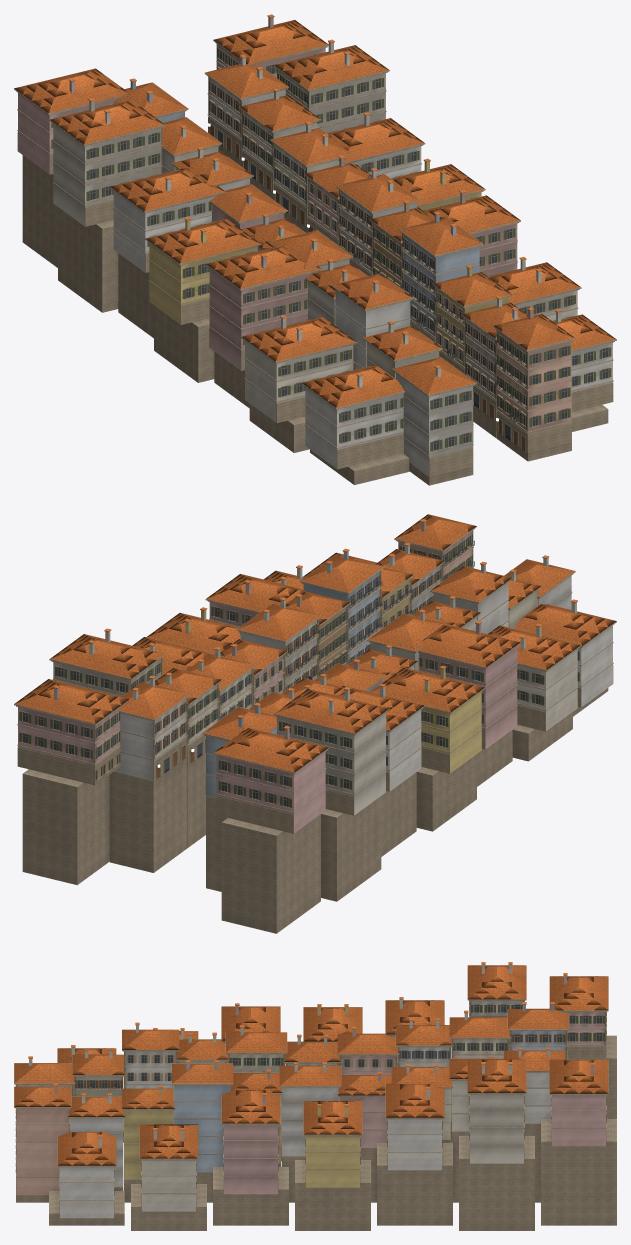
Rendered from tram.gltf.
3 views of the same model, one above another, from view 1: azimuth 30°, elevation 25°; view 2: azimuth 150°, elevation 25°; view 3: azimuth 270°, elevation 25° (orthographic). The views are drawn at different scales.
Visible parts, largest first — view 1: tram-roof-tiles, tram-plaster, tram-travertine-trim, tram-foundation, tram-shutters, tram-window-glass, tram-rustication, tram-wrought-iron, tram-door-wood; view 2: tram-roof-tiles, tram-foundation, tram-plaster, tram-travertine-trim, tram-shutters, tram-rustication, tram-window-glass, tram-wrought-iron; view 3: tram-roof-tiles, tram-plaster, tram-foundation, tram-travertine-trim, tram-shutters, tram-window-glass, tram-rustication.
Part boxes in pixels (left/top/right/bottom): tram-roof-tiles: left=14, top=14, right=616, bottom=407; tram-plaster: left=18, top=17, right=612, bottom=476; tram-travertine-trim: left=14, top=20, right=616, bottom=456; tram-foundation: left=22, top=145, right=608, bottom=485; tram-shutters: left=51, top=48, right=611, bottom=451; tram-window-glass: left=90, top=50, right=607, bottom=450; tram-rustication: left=17, top=116, right=613, bottom=477; tram-wrought-iron: left=209, top=122, right=523, bottom=422; tram-door-wood: left=210, top=125, right=525, bottom=451; tram-roof-tiles: left=15, top=514, right=616, bottom=772; tram-foundation: left=22, top=688, right=608, bottom=933; tram-plaster: left=18, top=522, right=612, bottom=833; tram-travertine-trim: left=14, top=514, right=616, bottom=813; tram-shutters: left=19, top=534, right=579, bottom=807; tram-rustication: left=17, top=665, right=613, bottom=833; tram-window-glass: left=23, top=536, right=540, bottom=806; tram-wrought-iron: left=157, top=540, right=474, bottom=764; tram-roof-tiles: left=14, top=962, right=608, bottom=1165; tram-plaster: left=16, top=964, right=605, bottom=1218; tram-foundation: left=16, top=1035, right=616, bottom=1230; tram-travertine-trim: left=14, top=965, right=608, bottom=1200; tram-shutters: left=16, top=1005, right=605, bottom=1195; tram-window-glass: left=78, top=1005, right=601, bottom=1088; tram-rustication: left=16, top=1046, right=606, bottom=1217.
Bounding box in the file's own units: 73.7 × 42.97 × 147.
Materials: 12 (7 with a texture image).
